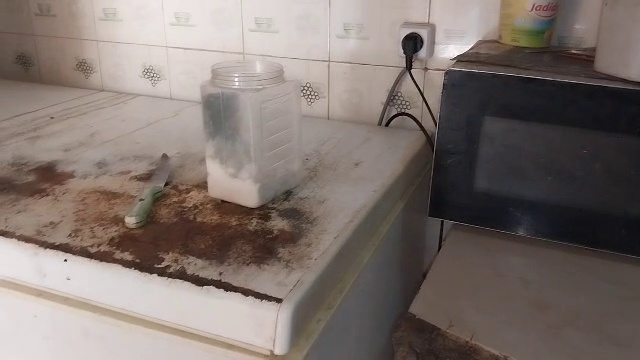microwave: (432, 62, 640, 267)
refrigerator: (4, 61, 411, 360)
